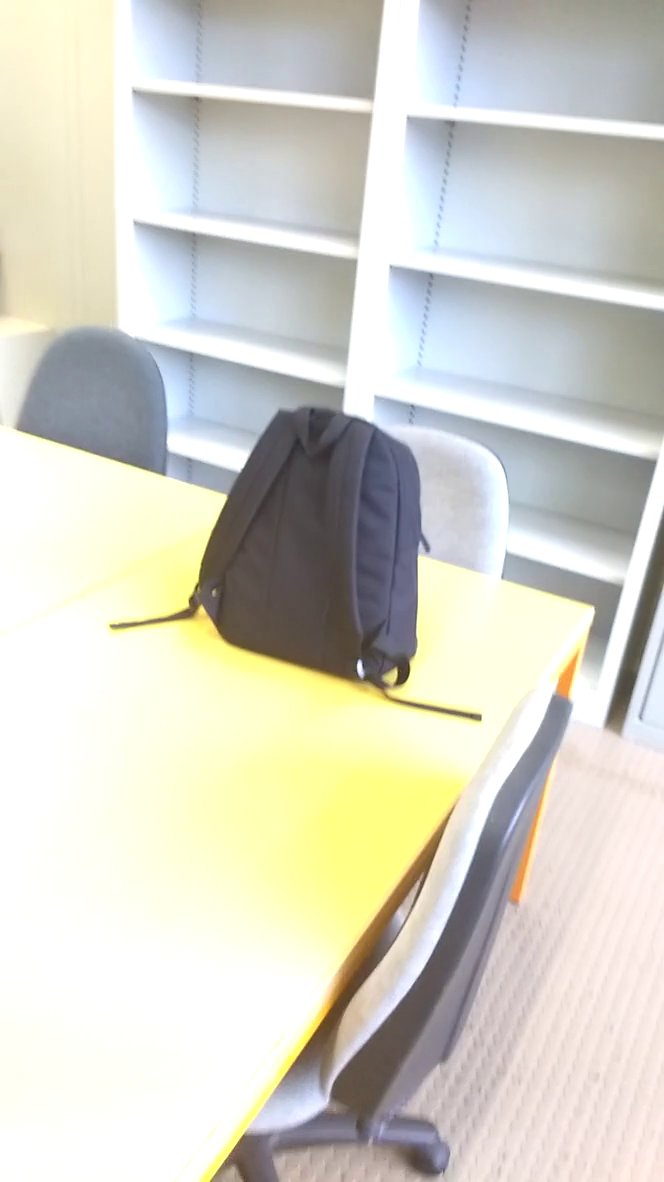bag: (112, 396, 453, 737)
chair: (179, 680, 615, 1182), (359, 414, 516, 623), (8, 313, 176, 497)
